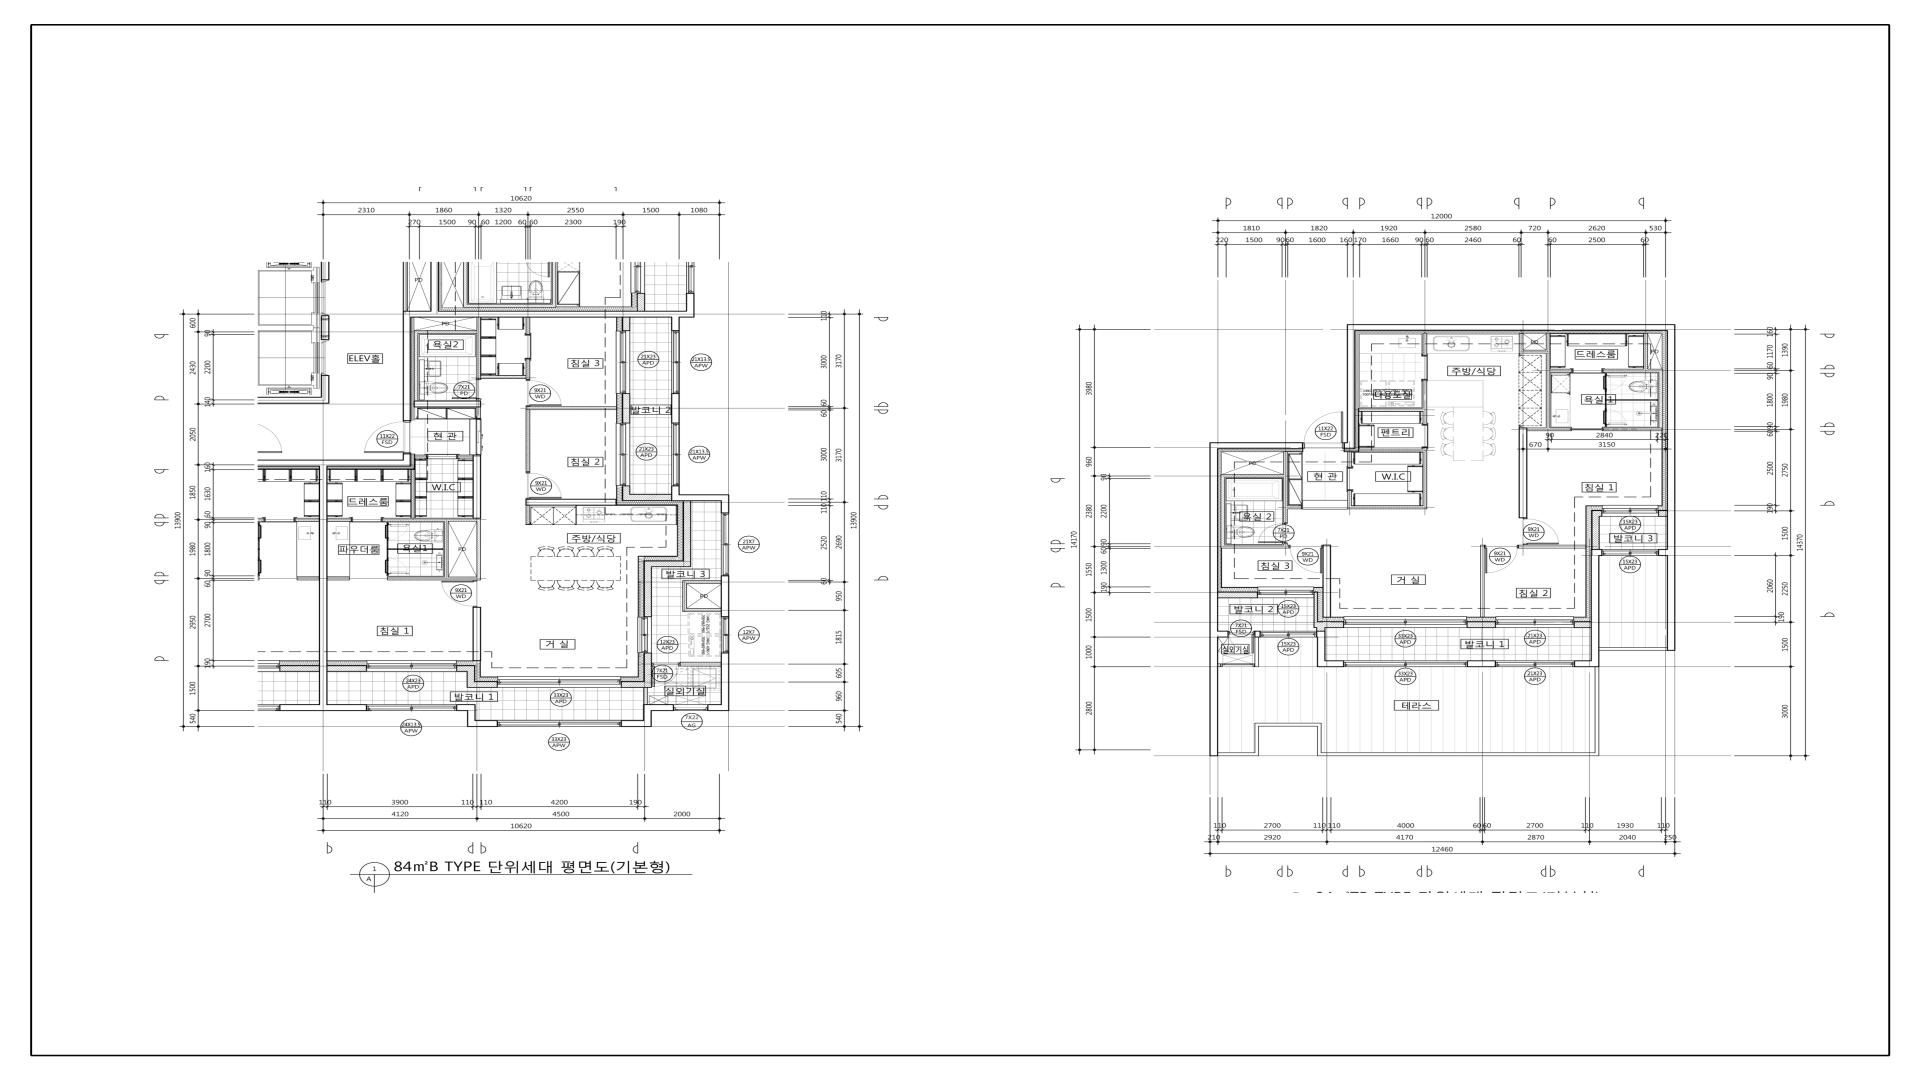door: (364, 421, 411, 454), (1303, 411, 1344, 444), (1523, 518, 1559, 545), (442, 580, 477, 607), (526, 380, 562, 406), (526, 472, 562, 498), (1485, 547, 1518, 574), (1290, 547, 1321, 574), (651, 663, 680, 687), (452, 378, 481, 401), (1229, 633, 1254, 654), (1258, 524, 1284, 543), (385, 558, 409, 576), (385, 522, 409, 541), (1604, 409, 1627, 425), (1604, 376, 1627, 392), (476, 418, 481, 455), (525, 332, 531, 360), (351, 517, 382, 522), (427, 454, 458, 459), (1422, 356, 1428, 380), (1422, 425, 1428, 447), (1346, 468, 1353, 491), (1572, 369, 1602, 373), (1571, 429, 1604, 430)
wall: (1344, 324, 1676, 555), (1209, 442, 1303, 667), (1575, 549, 1602, 667), (402, 311, 695, 318), (319, 467, 327, 704), (1316, 630, 1344, 667), (257, 460, 411, 467), (402, 318, 411, 421), (1518, 427, 1527, 518), (525, 498, 617, 506), (472, 455, 481, 518), (1323, 545, 1331, 617), (280, 704, 367, 711), (472, 607, 481, 661), (1545, 334, 1551, 427), (257, 397, 330, 404), (683, 501, 691, 560), (430, 262, 439, 311), (644, 560, 651, 617), (414, 401, 481, 407), (721, 653, 729, 704), (1592, 510, 1602, 549), (1480, 545, 1485, 617), (1221, 543, 1290, 549), (526, 406, 616, 410), (388, 576, 476, 580), (671, 495, 721, 501), (721, 576, 729, 617), (622, 495, 671, 501), (476, 318, 481, 378), (476, 521, 481, 580), (1348, 505, 1423, 509), (1283, 451, 1287, 524), (1518, 545, 1586, 549), (1221, 477, 1225, 545), (414, 334, 418, 401), (1218, 592, 1258, 599), (651, 560, 691, 567), (382, 518, 481, 521), (327, 665, 367, 671), (402, 262, 407, 311), (410, 469, 415, 518), (1358, 407, 1423, 411), (1360, 448, 1423, 452), (1423, 447, 1427, 509), (526, 410, 530, 472), (414, 330, 476, 334), (622, 393, 630, 423), (671, 393, 679, 423), (621, 680, 651, 688), (1604, 427, 1663, 431), (320, 315, 330, 340), (1659, 372, 1663, 427), (644, 653, 651, 680), (444, 521, 448, 576), (1466, 661, 1497, 667), (1313, 621, 1344, 628), (621, 720, 651, 727), (320, 376, 330, 397), (1643, 334, 1648, 369), (1423, 380, 1427, 425), (481, 375, 526, 378), (475, 680, 497, 688), (1527, 427, 1571, 431), (1221, 475, 1283, 477), (680, 662, 721, 666), (1602, 369, 1663, 372), (320, 262, 330, 280), (1254, 638, 1259, 667), (1313, 592, 1319, 621), (1466, 622, 1495, 628), (683, 580, 721, 584), (476, 720, 498, 727), (651, 704, 674, 711), (682, 584, 687, 612), (467, 711, 476, 727), (721, 495, 729, 513), (708, 704, 729, 711), (687, 608, 721, 612), (467, 671, 475, 688), (456, 704, 476, 711), (644, 704, 651, 720), (1573, 621, 1592, 628), (456, 665, 475, 671), (1519, 349, 1545, 353), (622, 318, 630, 331), (671, 318, 679, 331), (327, 518, 351, 522), (1423, 334, 1427, 356), (327, 576, 349, 580), (526, 505, 530, 525), (526, 360, 530, 380), (622, 485, 630, 495), (671, 485, 679, 495), (389, 549, 443, 550), (1607, 400, 1659, 401), (1519, 334, 1523, 349), (1348, 452, 1352, 468), (644, 688, 647, 704), (1658, 510, 1667, 517), (402, 454, 411, 460), (1348, 491, 1352, 505), (1287, 505, 1302, 509), (458, 455, 472, 459), (526, 318, 530, 332), (1551, 369, 1572, 372), (476, 407, 481, 418), (1254, 630, 1261, 638), (414, 455, 427, 459), (1605, 392, 1607, 410), (386, 541, 389, 558), (1316, 628, 1325, 630), (1218, 663, 1221, 667)
window: (1344, 616, 1466, 628), (497, 676, 621, 687), (367, 661, 456, 671), (1495, 616, 1573, 628), (616, 423, 630, 485), (616, 331, 630, 393), (497, 720, 621, 727), (1344, 661, 1466, 667), (1602, 505, 1658, 517), (1258, 587, 1313, 599), (367, 704, 456, 711), (637, 617, 651, 653), (1497, 661, 1575, 667), (721, 513, 729, 576), (671, 423, 679, 485), (671, 331, 679, 393), (1261, 632, 1316, 637), (1602, 550, 1658, 555), (721, 617, 729, 653), (674, 704, 708, 711), (1221, 663, 1254, 667)
